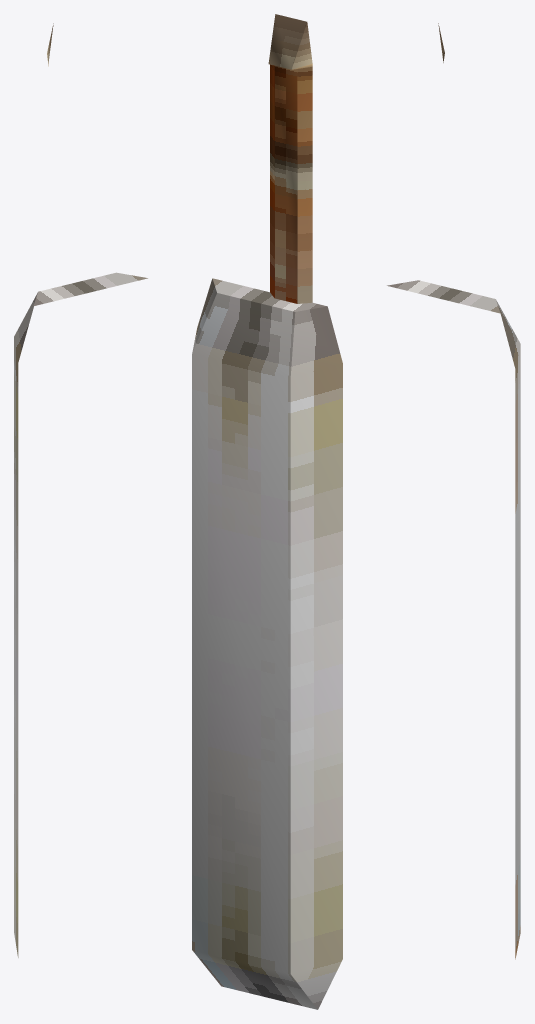
The model's file is WallLight1.glb.
3 renders of one model, left to right at view 1: azimuth 30°, elevation 25°; view 2: azimuth 150°, elevation 25°; view 3: azimuth 330°, elevation 25°, orthographic.
Parts seen in each view (by area): view 1: WALLLIGHT1; view 2: WALLLIGHT1; view 3: WALLLIGHT1.
Boxes of the visible parts, x1,y1,x2,y2 form: WALLLIGHT1: [14, 23, 147, 957]; WALLLIGHT1: [192, 14, 342, 1009]; WALLLIGHT1: [387, 23, 520, 959].
Bounding box in the file's own units: 0.164 × 1.06 × 0.055.
1 material, 1 textured.
